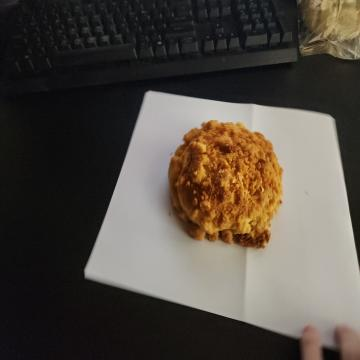soboru_bread: (167, 119, 281, 249)
